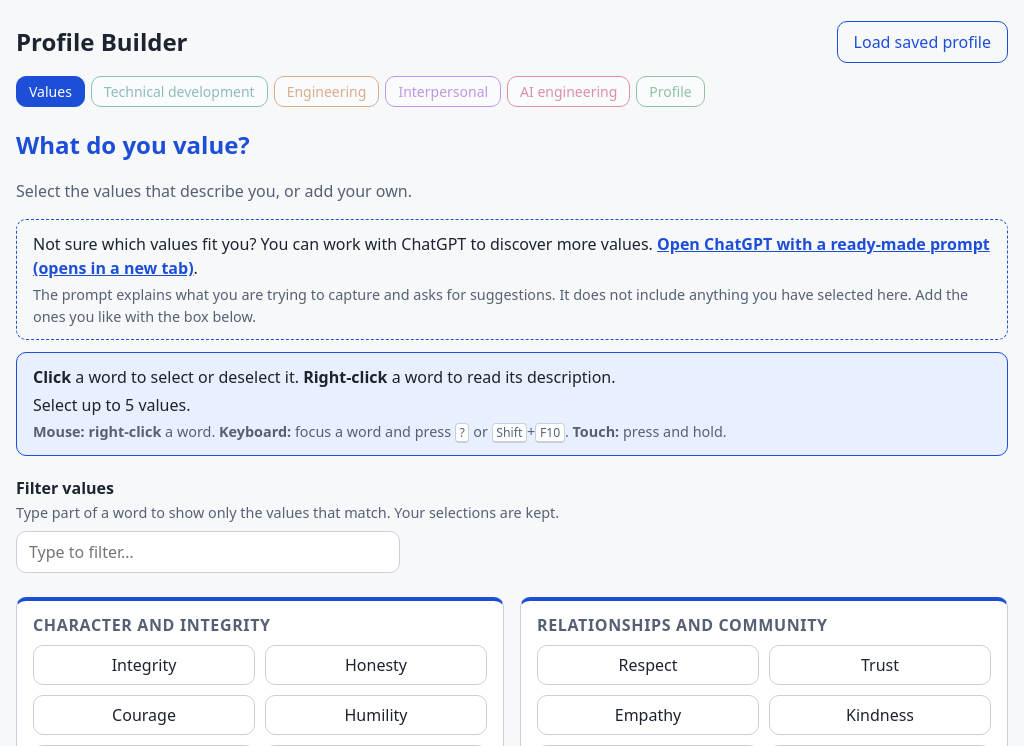
it: values step › blocks continue until a value is selected, with an explanation
This screenshot has width=1024, height=746.
Click the button "Integrity" at (144, 665), box [33,645,255,685]
(page scrolled)
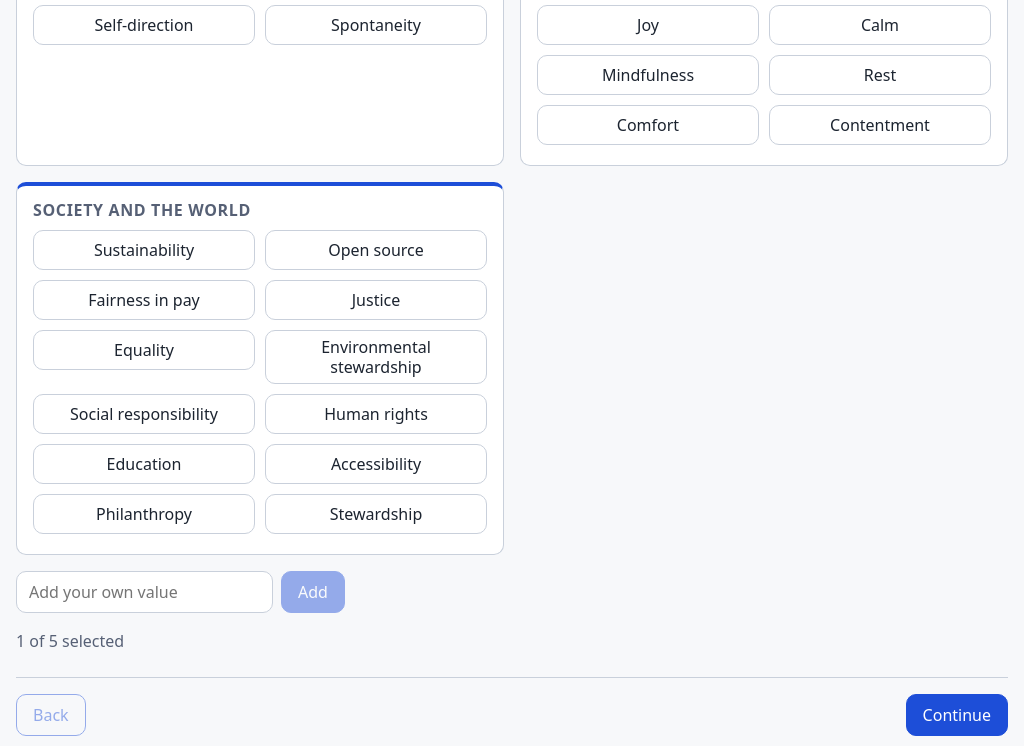
Check: the button "Continue" is enabled, box [906,694,1008,736]
